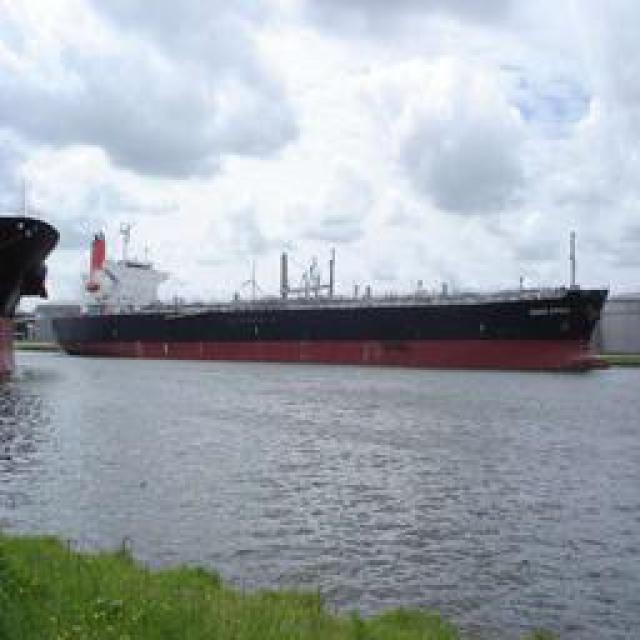Ship: (41, 287, 606, 370)
